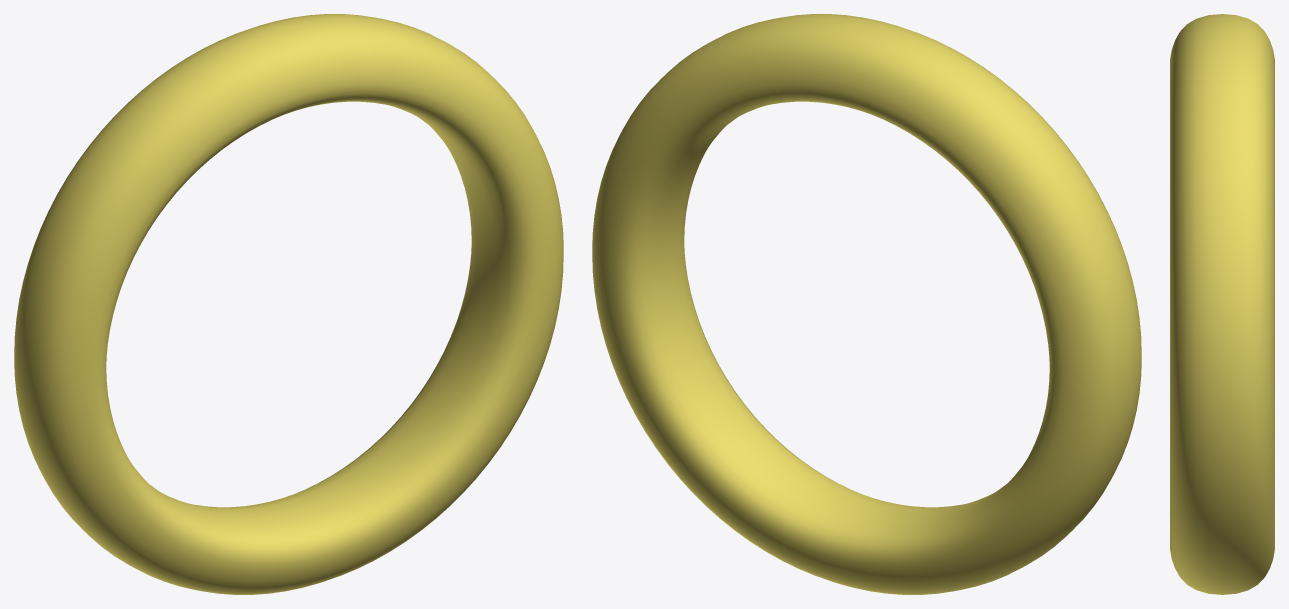
File: tradringfina.glb
The picture shows the model from 3 angles, left to right: view 1: azimuth 30°, elevation 25°; view 2: azimuth 150°, elevation 25°; view 3: azimuth 270°, elevation 25°; orthographic projection. The views are drawn at different scales.
Parts seen in each view (by area): view 1: Circle; view 2: Circle; view 3: Circle.
Boxes of the visible parts, x1=… form: Circle: x1=14, y1=14, x2=563, y2=594; Circle: x1=592, y1=14, x2=1141, y2=594; Circle: x1=1170, y1=14, x2=1274, y2=594.
Size of the model in its own units: 1.97 by 1.97 by 0.3553.
